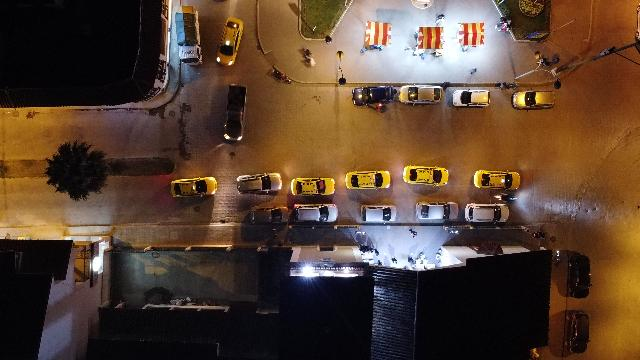Vehiculo: (224, 83, 248, 145), (216, 18, 244, 66), (171, 176, 217, 198), (236, 172, 282, 194), (474, 170, 520, 190), (292, 204, 338, 224), (404, 166, 448, 186), (352, 86, 396, 106), (346, 170, 390, 190), (465, 204, 509, 224), (512, 90, 554, 110), (398, 86, 442, 105), (291, 178, 335, 196), (416, 202, 458, 220), (250, 206, 290, 224), (452, 90, 490, 108), (361, 204, 397, 222)
